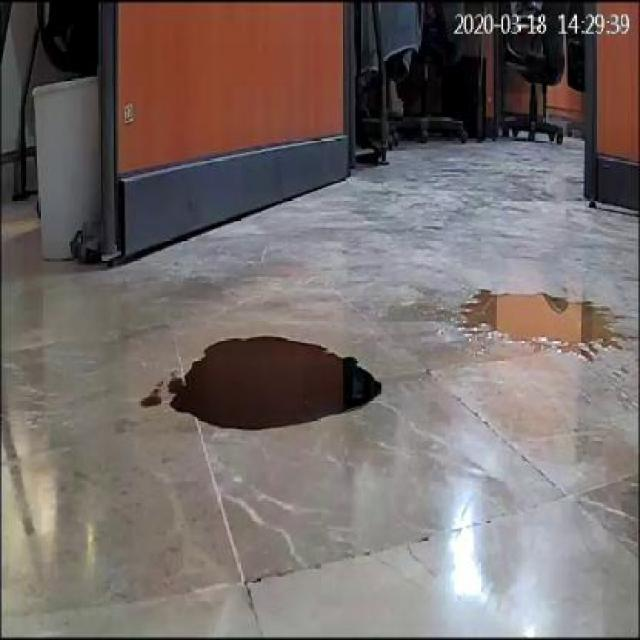spill: (168, 336, 380, 429), (457, 290, 614, 358)
